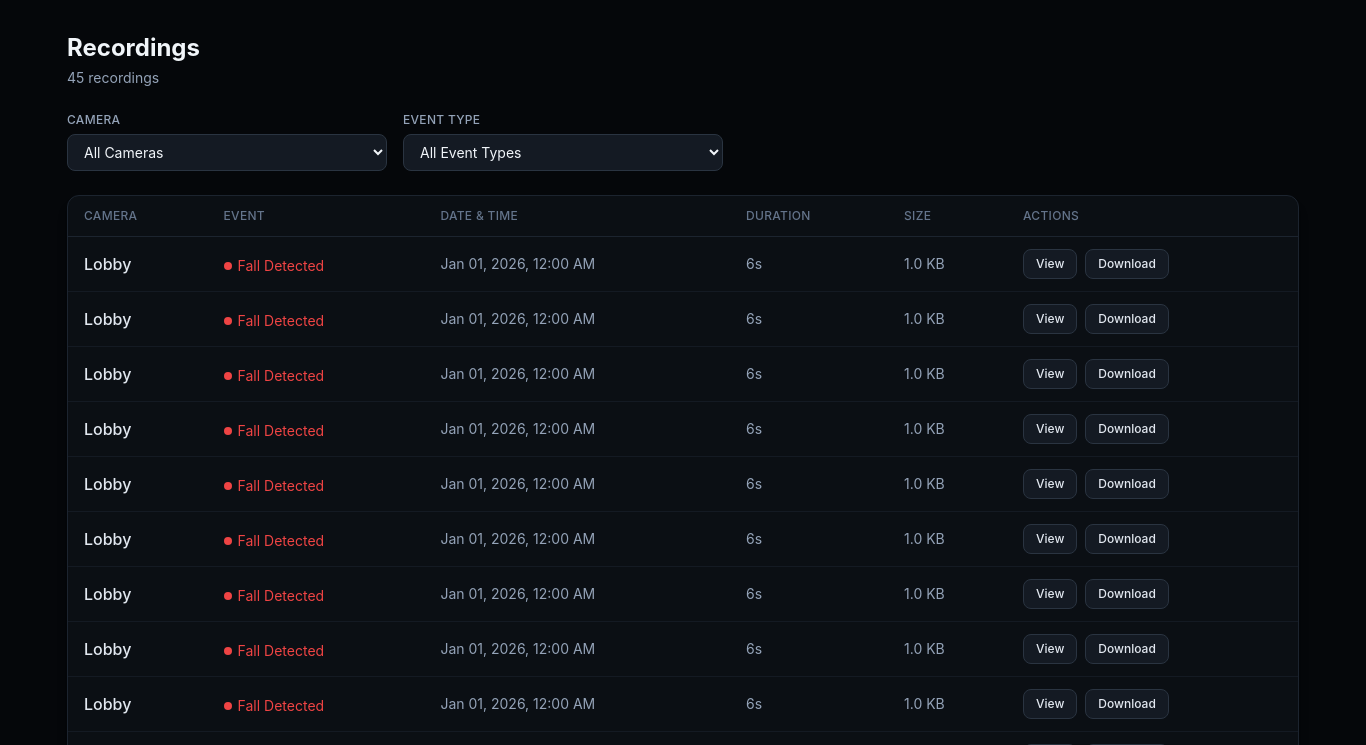
Test: Recordings page paging › filters on the server, not over the rows that happen to be on screen
Select "Crowd Detected" in the dropdown labelled "Event Type". click: (563, 152)
box: [403,134,723,171]
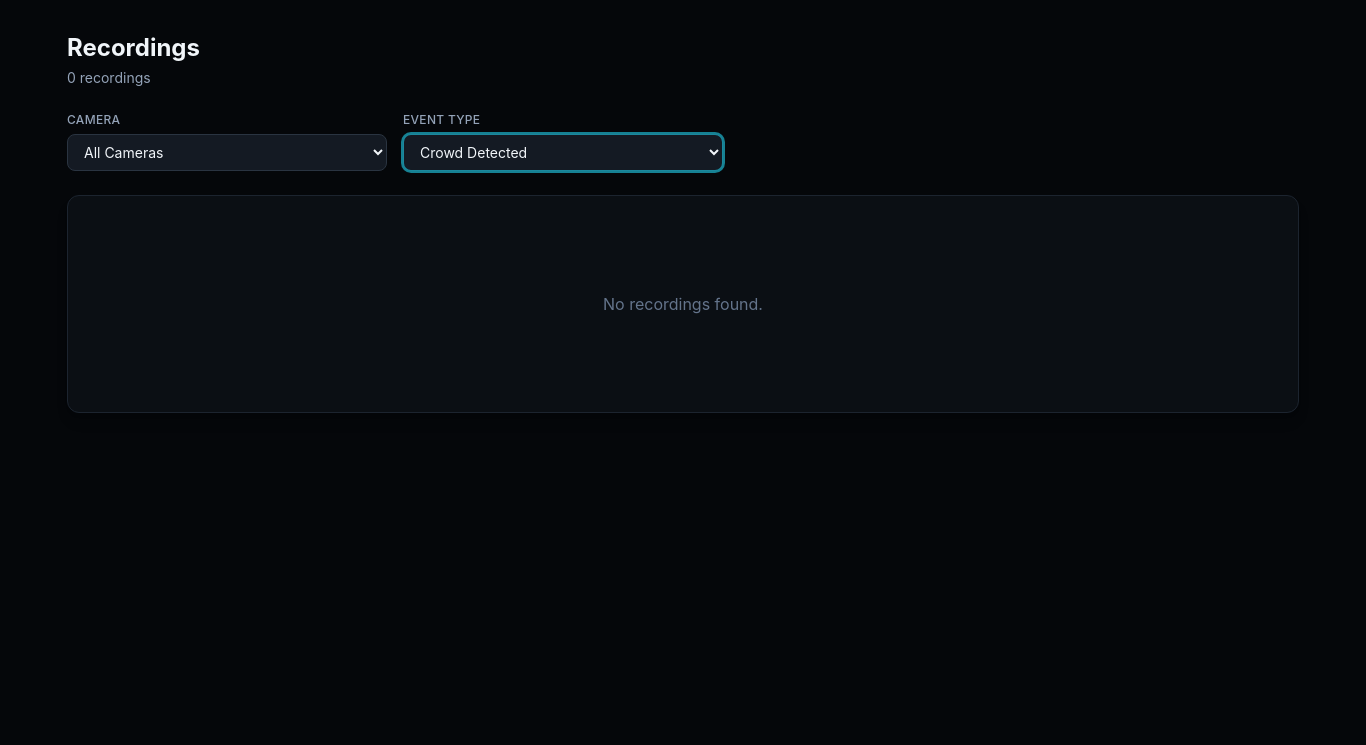
Expected: the text "No recordings found." is shown, [67,195,1299,413]
